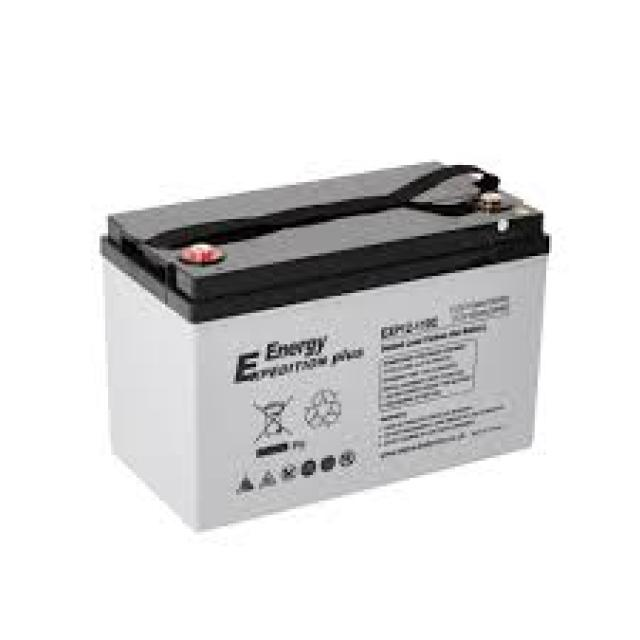Battery: (97, 162, 552, 538)
